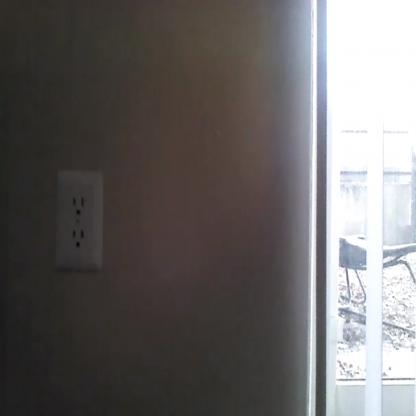OUTLET: (56, 170, 103, 272)
